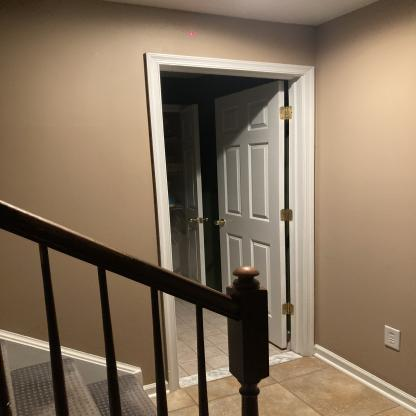target: (189, 31, 196, 38)
